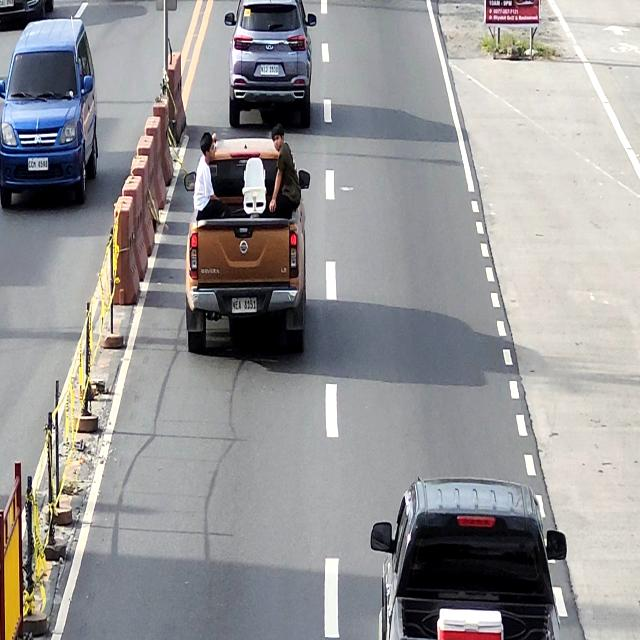Car: (370, 476, 568, 639), (182, 132, 312, 355), (0, 15, 98, 207), (224, 0, 316, 128)
License-Plate: (232, 297, 257, 314), (28, 157, 49, 171), (260, 64, 279, 76)
